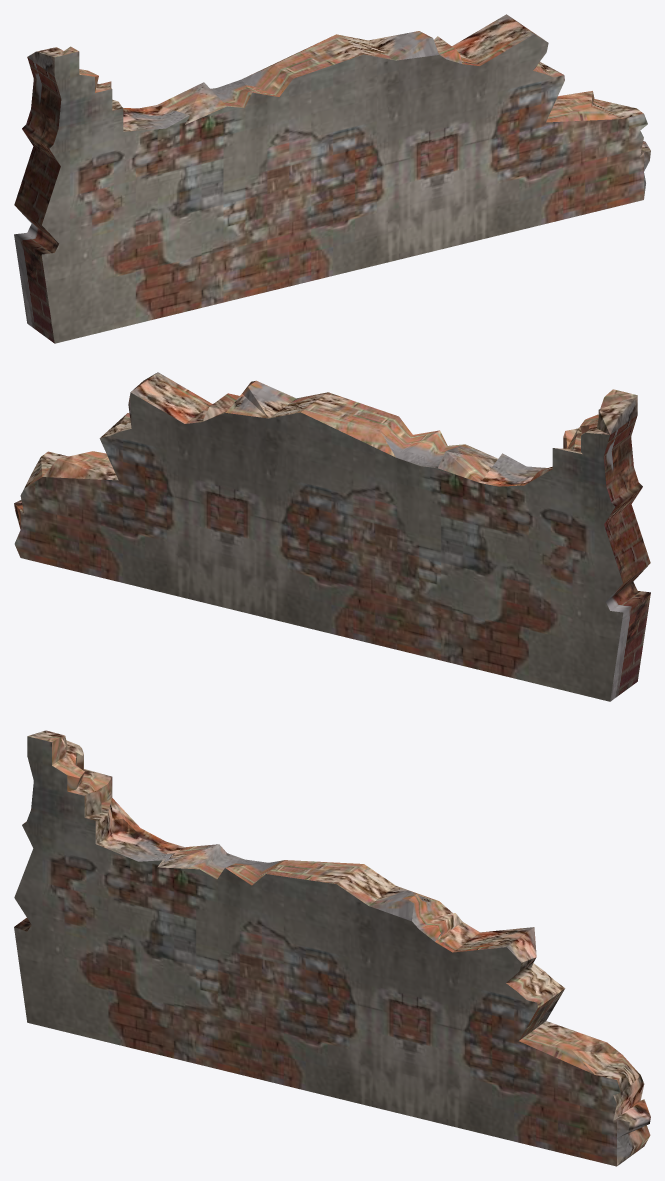
Rendered from Brick_Wall_1.fbx.
The picture shows the model from 3 angles, top to bottom: view 1: azimuth 30°, elevation 25°; view 2: azimuth 150°, elevation 25°; view 3: azimuth 330°, elevation 25°; orthographic projection.
Visible parts, largest first — view 1: wall; view 2: wall; view 3: wall.
Boxes of the visible parts, left/top/right/bottom form: wall: left=14, top=14, right=650, bottom=343; wall: left=14, top=372, right=650, bottom=701; wall: left=14, top=730, right=650, bottom=1166.
Bounding box in the file's own units: 406 × 179 × 31.24.
